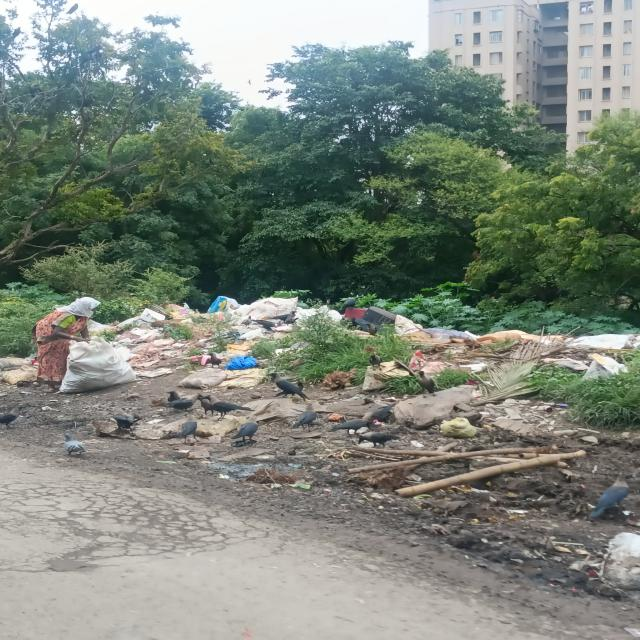garbage: (413, 327, 640, 418), (208, 296, 402, 394), (119, 303, 209, 385)
